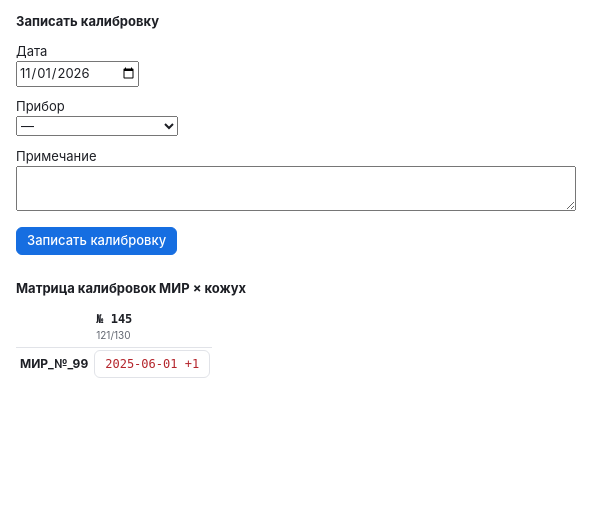
Test case: матрица: дата пары, «+1» при нескольких, клик открывает калибровку с файлами
Click the button "2025-06-01 +1". click: (152, 364)
box: [94,350,210,378]
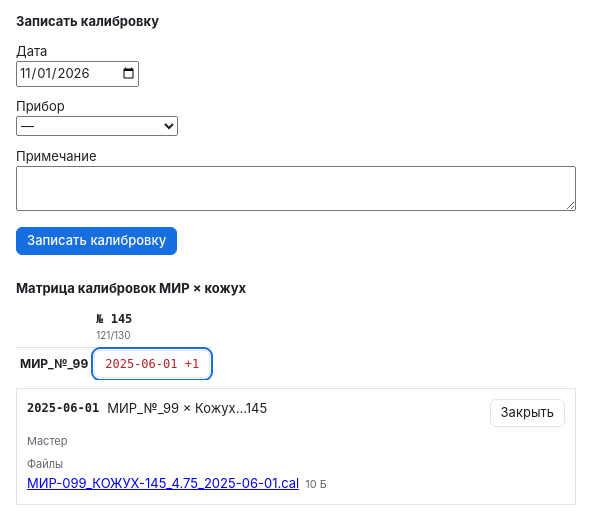
Result: the link "МИР-099_КОЖУХ-145_4.75_2025-06-01.cal" is shown at [27,474,299,494]
